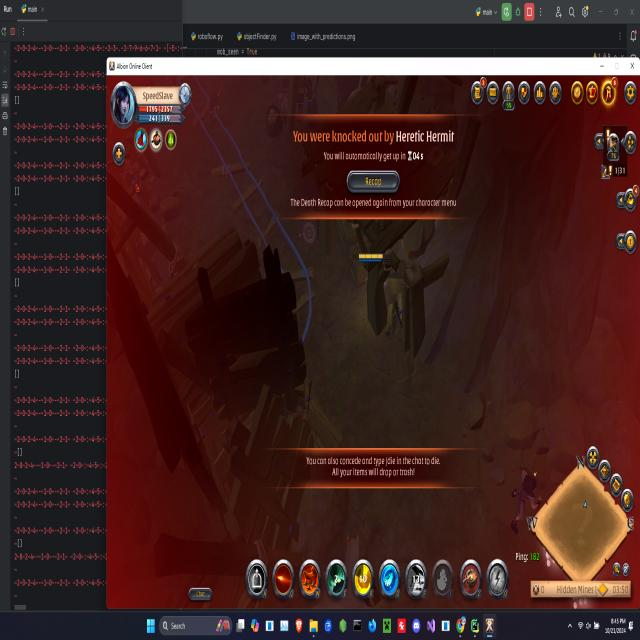ore: (506, 458, 547, 538), (205, 79, 226, 129)
red: (355, 250, 393, 267)
